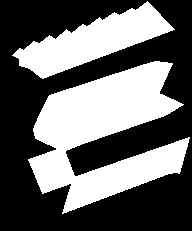parkingspot: (12, 1, 174, 78), (33, 85, 183, 151), (62, 137, 189, 213), (37, 61, 172, 129), (28, 147, 76, 193)
